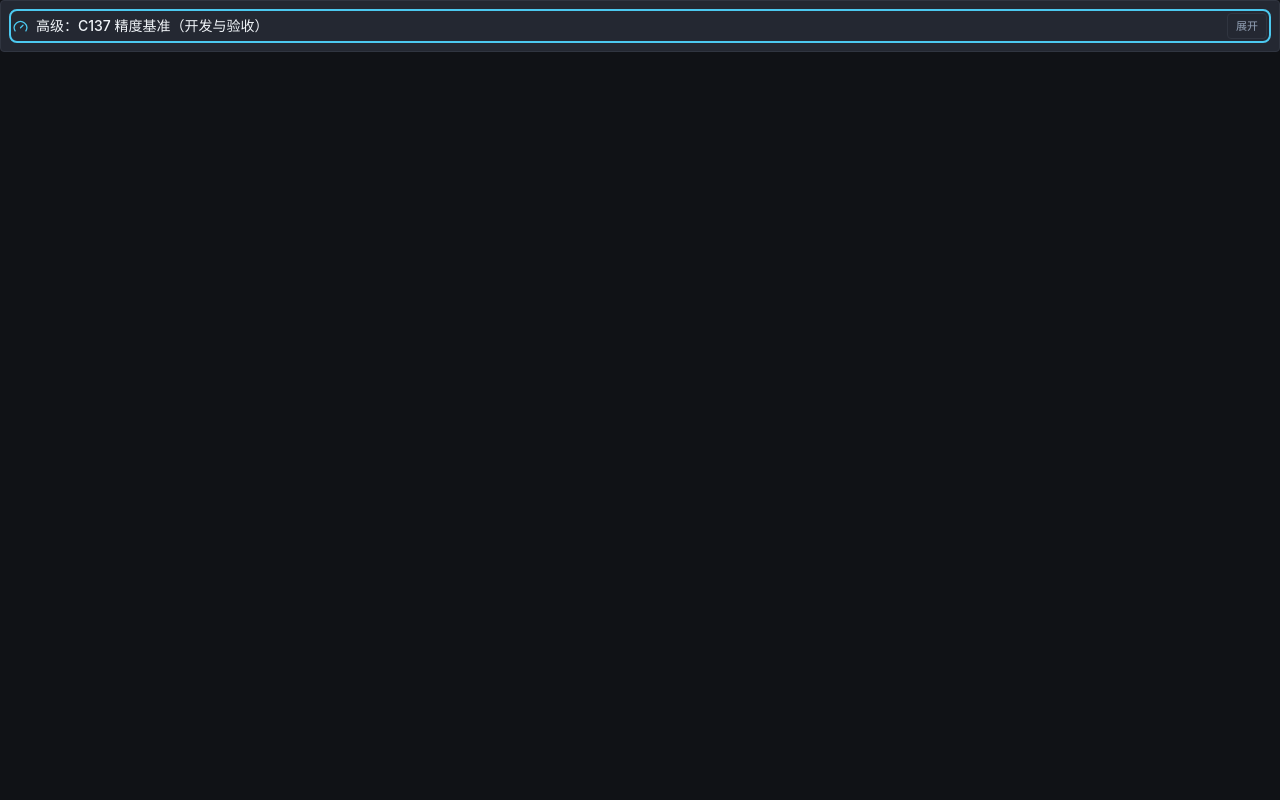
Test: C137 真实媒体 benchmark 面板 › 默认折叠，并可用键盘展开到只选择 manifest 的空态
The image size is (1280, 800).
Press Enter
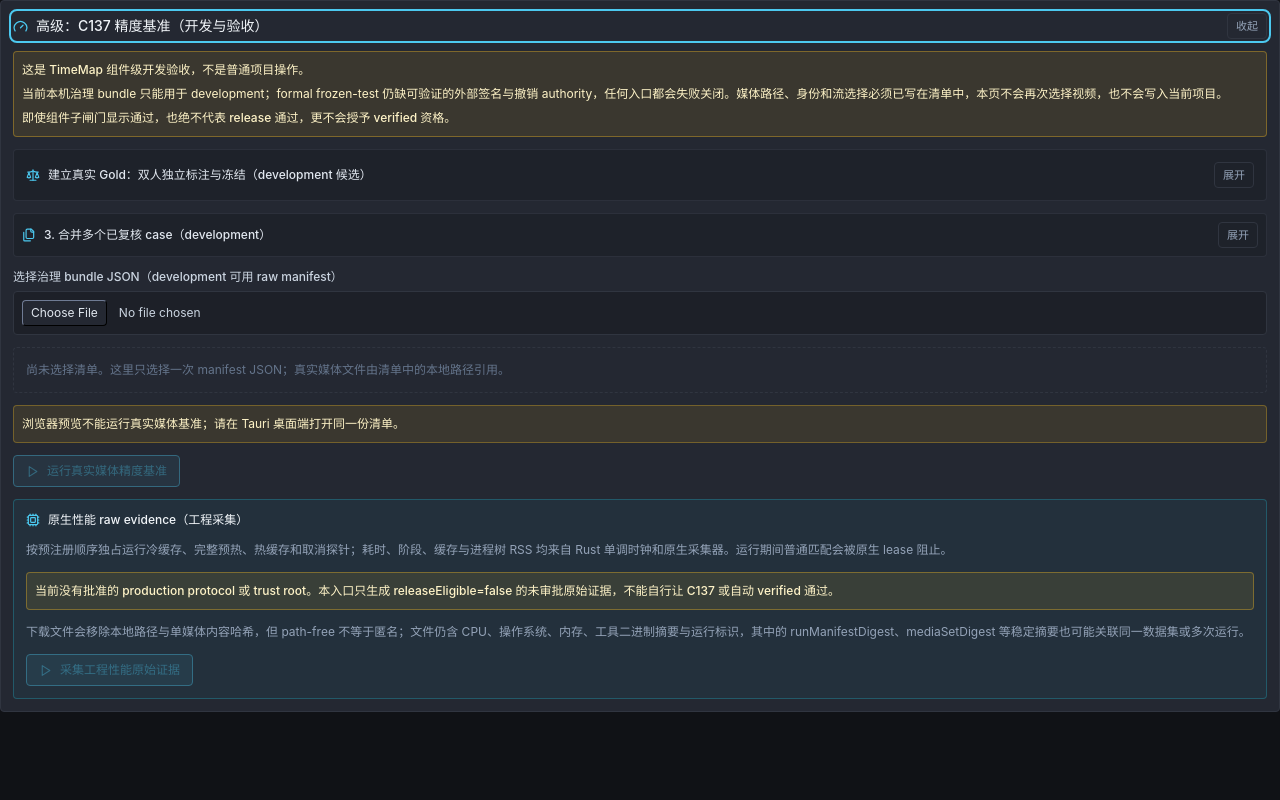
Expected: the button "高级：C137 精度基准（开发与验收） 收起" is expanded, [13,13,1267,39]
Expected: the text "尚未选择清单。这里只选择一次 manifest JSON；真实媒体文件由清单中的本地路径引用。" is shown, [13,347,1267,393]
Expected: the text "不会再次选择视频，也不会写入当前项目" is shown, [22,86,1228,101]
Click the button "建立真实 Gold：双人独立标注与冻结（development 候选） 展开" at (210, 174), box [26,162,1254,188]
(page scrolled)
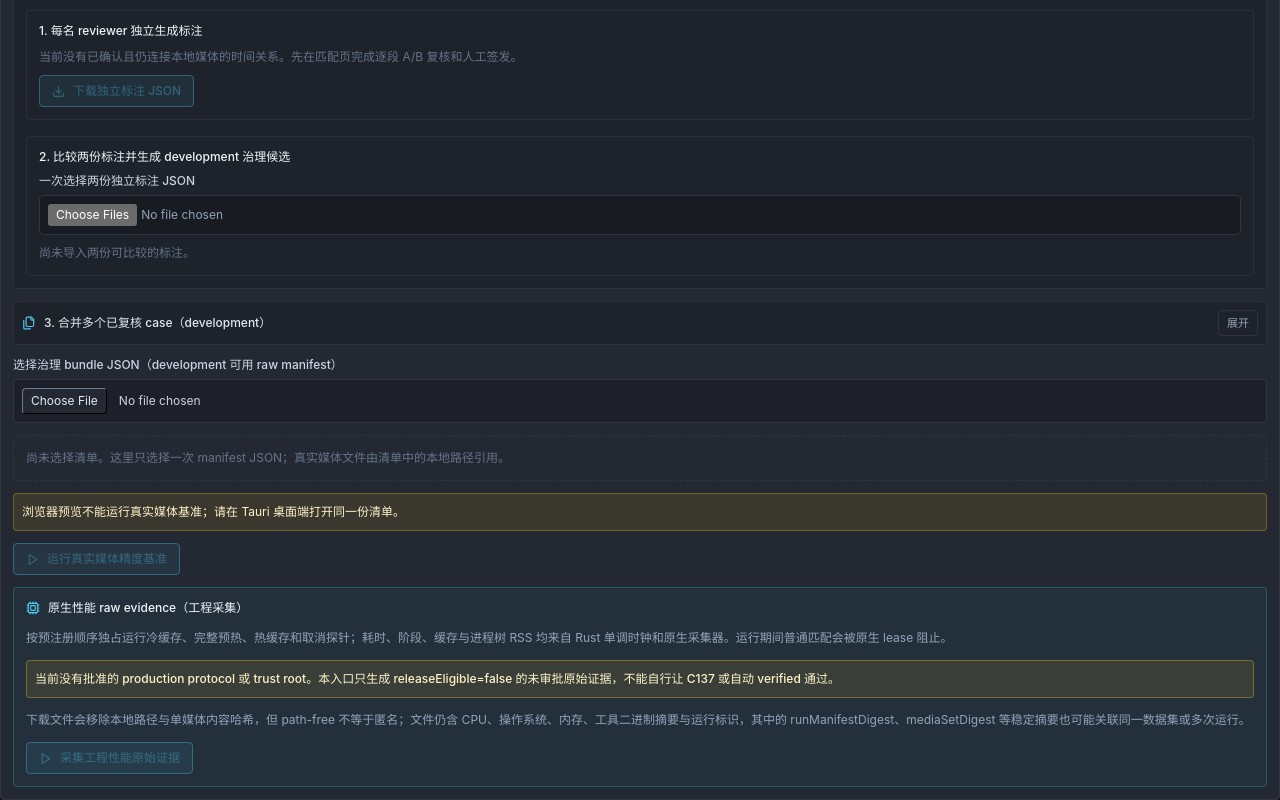
Expected: the text "浏览器预览不能运行真实媒体基准；请在 Tauri 桌面端打开同一份清单。" is shown, [13,493,1267,531]
Expected: the text "当前没有已确认且仍连接本地媒体的时间关系。先在匹配页完成逐段 A/B 复核和人工签发。" is shown, [39,49,522,64]
Expected: the button "下载独立标注 JSON" is disabled, [39,75,194,107]
